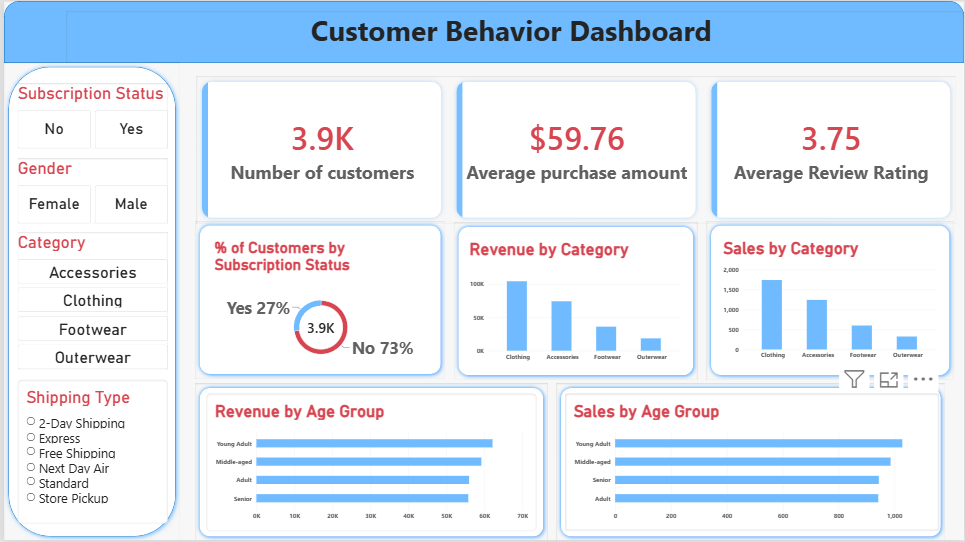

This screenshot's page, from the dashboard's own definition file:
{"tool":"powerbi","page":{"name":"Page 1","canvas":[1920,1080],"ordinal":0},"visuals":[{"type":"cardVisual","fields":{"Data":["public customer.Number of customers","public customer.Average purchase amount","public customer.Average Review Rating"]},"box":[385,150,1520,295],"z":0},{"type":"shape","box":[0,0,1920.5,124.1],"z":1000},{"type":"textbox","box":[125.9,20.6,1794.6,103],"z":2000},{"type":"shape","box":[382.5,440,500,315],"z":3000},{"type":"donutChart","title":"% of Customers by Subscription Status ","fields":{"Category":["public customer.subscription_status"],"Y":["CountNonNull(public customer.customer_id)"]},"box":[405,460,457.5,277.5],"z":4000},{"type":"shape","box":[900,442.5,487.5,315],"z":5000},{"type":"shape","box":[1405,440,495,317.5],"z":6000},{"type":"clusteredColumnChart","title":"Revenue by Category","fields":{"Category":["public customer.category"],"Y":["Sum(public customer.purchase_amount)"]},"box":[915,462.5,455,277.5],"z":7000},{"type":"clusteredColumnChart","title":"Sales by Category","fields":{"Category":["public customer.category"],"Y":["CountNonNull(public customer.customer_id)"]},"box":[1422.5,460,460,277.5],"z":8000},{"type":"shape","box":[0,122.5,352.5,957.5],"z":9000},{"type":"advancedSlicerVisual","title":"Subscription Status","fields":{"Values":["public customer.subscription_status"]},"box":[27.5,165,300,130],"z":10000},{"type":"advancedSlicerVisual","title":"Gender","fields":{"Values":["public customer.gender"]},"box":[27.5,315,300,130],"z":11000},{"type":"advancedSlicerVisual","title":"Category","fields":{"Values":["public customer.category"]},"box":[27.5,462.5,300,275],"z":12000},{"type":"listSlicer","fields":{"Values":["public customer.shipping_type"]},"box":[27.5,757.5,300,287.5],"z":13000},{"type":"shape","box":[382.5,765,705,315],"z":15000},{"type":"shape","box":[1105,765,777.5,315],"z":16000},{"type":"clusteredBarChart","title":"Revenue by Age Group","fields":{"Category":["public customer.age_group"],"Y":["Sum(public customer.purchase_amount)"]},"box":[405,785,660,275],"z":16001},{"type":"clusteredBarChart","title":"Sales by Age Group","fields":{"Category":["public customer.age_group"],"Y":["CountNonNull(public customer.customer_id)"]},"box":[1122.5,785,747.5,275],"z":16002}]}

Visuals, with their boxes in screenshot pixels (x1, y1, x2, y2), scaled from the page's 1920x1080 canvas onto the 965x542 screenshot:
cardVisual - public customer.Number of customers x public customer.Average purchase amount: left=194, top=75, right=957, bottom=223
shape: left=0, top=0, right=964, bottom=62
textbox: left=63, top=10, right=964, bottom=62
shape: left=192, top=221, right=444, bottom=379
"% of Customers by Subscription Status " donutChart: left=204, top=231, right=433, bottom=370
shape: left=452, top=222, right=697, bottom=380
shape: left=706, top=221, right=955, bottom=380
"Revenue by Category" clusteredColumnChart: left=460, top=232, right=689, bottom=371
"Sales by Category" clusteredColumnChart: left=715, top=231, right=946, bottom=370
shape: left=0, top=61, right=177, bottom=541
"Subscription Status" advancedSlicerVisual: left=14, top=83, right=165, bottom=148
"Gender" advancedSlicerVisual: left=14, top=158, right=165, bottom=223
"Category" advancedSlicerVisual: left=14, top=232, right=165, bottom=370
listSlicer - public customer.shipping_type: left=14, top=380, right=165, bottom=524
shape: left=192, top=384, right=547, bottom=541
shape: left=555, top=384, right=946, bottom=541
"Revenue by Age Group" clusteredBarChart: left=204, top=394, right=535, bottom=532
"Sales by Age Group" clusteredBarChart: left=564, top=394, right=940, bottom=532
